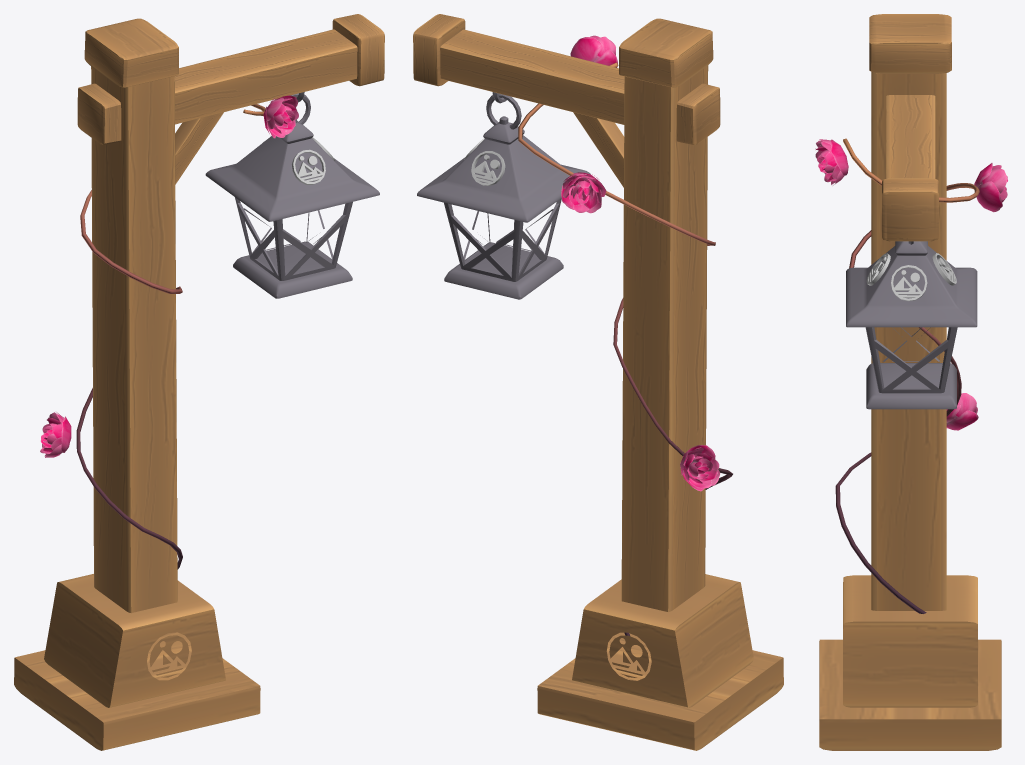
File: lamppost.glb
3 views of the same model, side by side, from view 1: azimuth 30°, elevation 25°; view 2: azimuth 150°, elevation 25°; view 3: azimuth 270°, elevation 25° (orthographic). The views are drawn at different scales.
Parts seen in each view (by area): view 1: BenchStreet.046, Light.001, Petals.036, Cube.014; view 2: BenchStreet.046, Light.001, Petals.036, Cube.014; view 3: BenchStreet.046, Light.001, Petals.036, Cube.014.
Part boxes in pixels (bbox=[...]): BenchStreet.046: bbox=[14, 14, 384, 750]; Light.001: bbox=[205, 92, 379, 298]; Petals.036: bbox=[40, 95, 298, 457]; Cube.014: bbox=[76, 104, 265, 569]; BenchStreet.046: bbox=[413, 14, 783, 750]; Light.001: bbox=[417, 92, 590, 299]; Petals.036: bbox=[561, 35, 720, 491]; Cube.014: bbox=[518, 62, 732, 635]; BenchStreet.046: bbox=[819, 14, 1001, 750]; Light.001: bbox=[846, 241, 977, 409]; Petals.036: bbox=[815, 139, 1007, 430]; Cube.014: bbox=[835, 138, 979, 613].
Size of what is drawn, in the model's own units: 2.62 by 5.34 by 1.41.
Materials: 4 (4 with a texture image).
